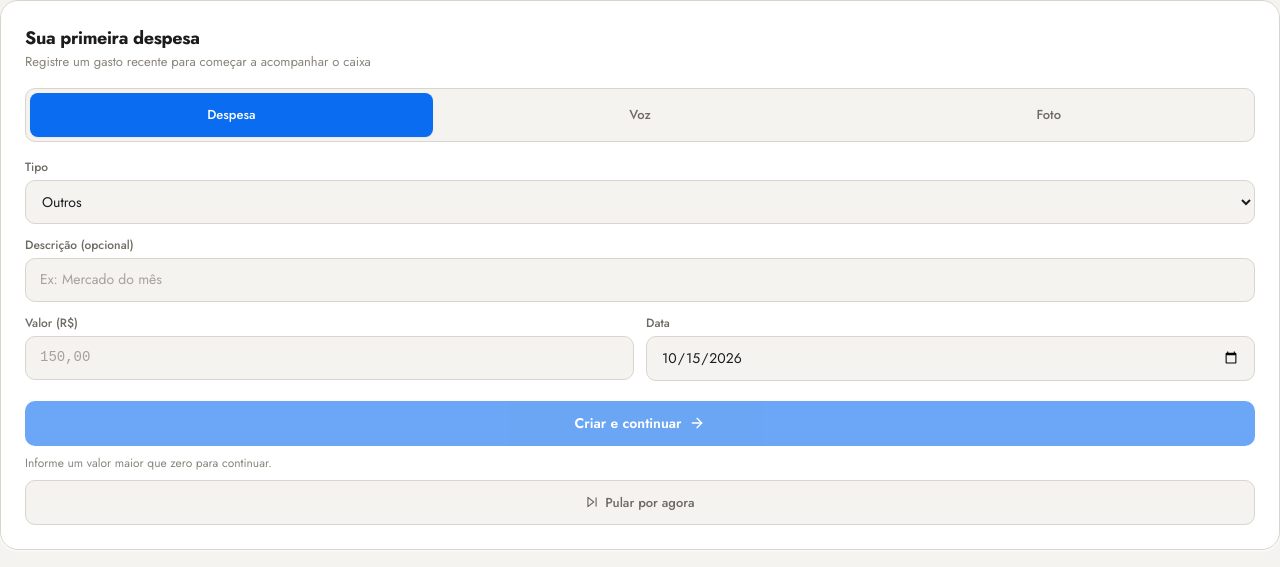
Test: QuickExpenseStep › com fontes (2-screen flow) › com conta: primeiro continuar abre tela de fonte sem fazer POST
In the field labelled "Valor (R$)": (330, 358) [25,336,634,380], type "10,00"
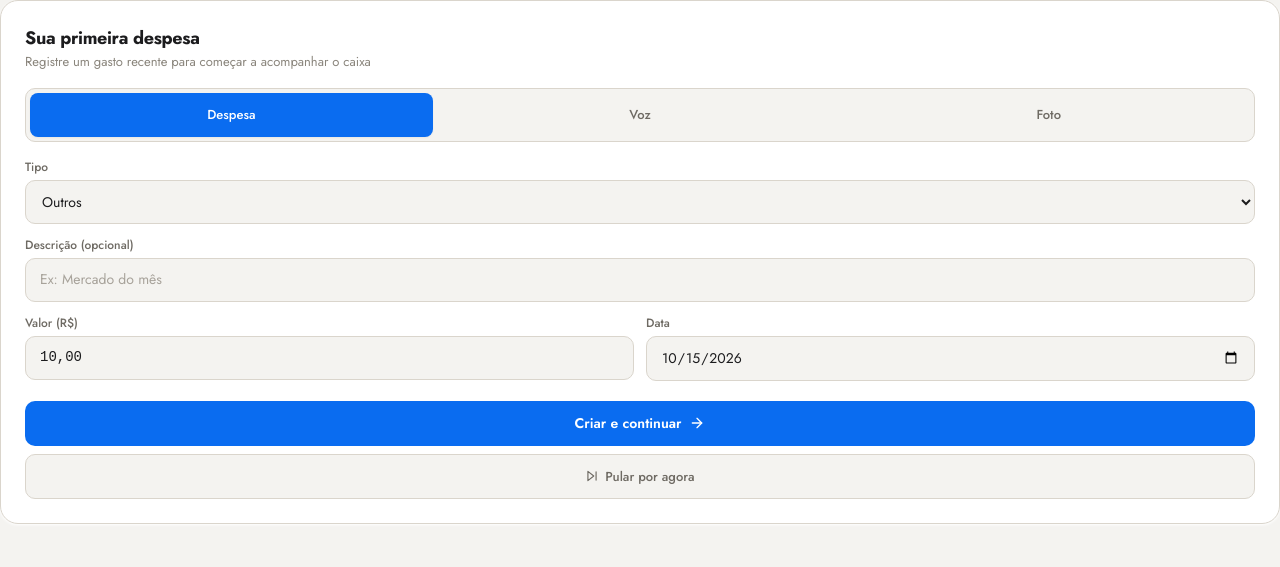
Click the button "Criar e continuar": (640, 423) [25,400,1255,446]
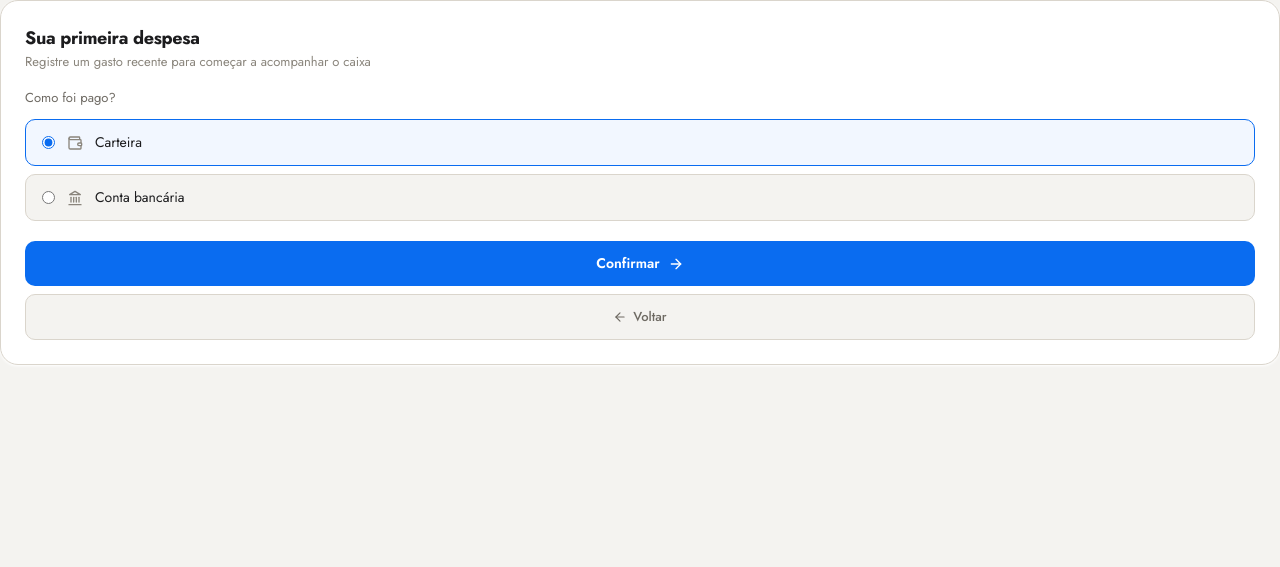
Result: the text "Como foi pago?" is shown at [25,88,116,106]
